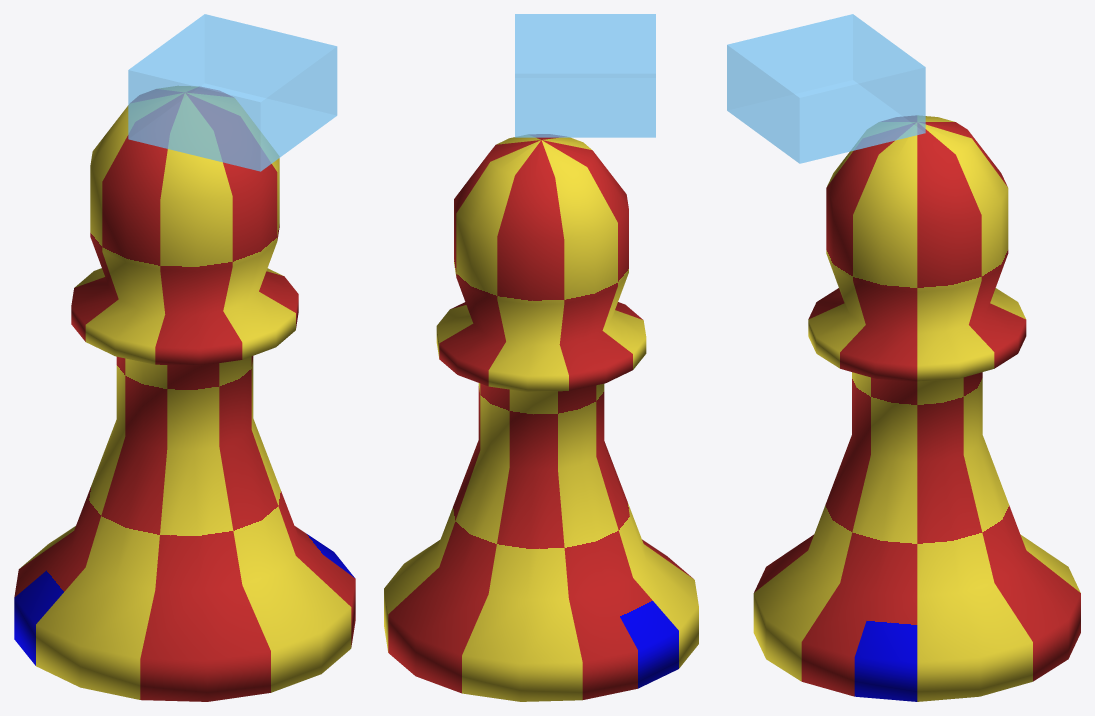
File: figure.glb
3 renders of one model, left to right at view 1: azimuth 30°, elevation 25°; view 2: azimuth 150°, elevation 25°; view 3: azimuth 270°, elevation 25°, orthographic. The views are drawn at different scales.
Parts seen in each view (by area): view 1: pawn, hat; view 2: pawn, hat; view 3: pawn, hat.
Part boxes in pixels (x1=…): pawn: x1=14, y1=86, x2=355, y2=701; hat: x1=128, y1=14, x2=337, y2=171; pawn: x1=384, y1=134, x2=698, y2=701; hat: x1=515, y1=14, x2=655, y2=137; pawn: x1=753, y1=115, x2=1080, y2=701; hat: x1=727, y1=14, x2=925, y2=163.
Bounding box in the file's own units: 0.9 × 1.75 × 0.9732.
2 materials, 1 textured.
